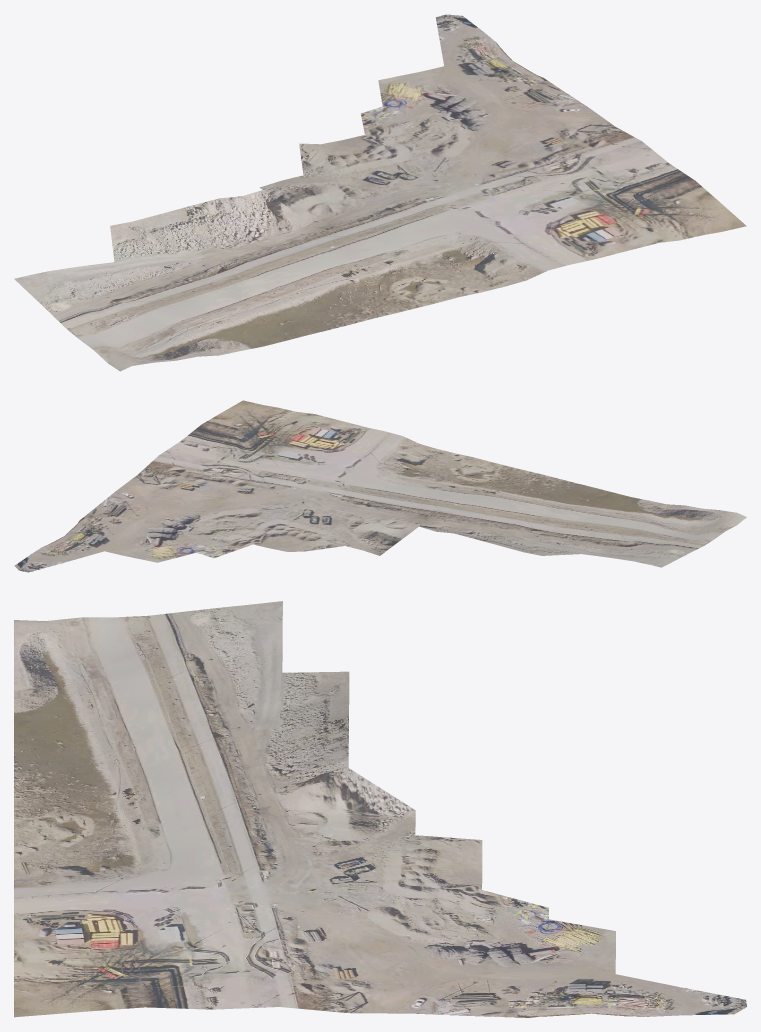
Rendered from CM_Terrain_24487387_6822046.fbx.
The picture shows the model from 3 angles, top to bottom: view 1: azimuth 30°, elevation 25°; view 2: azimuth 150°, elevation 25°; view 3: azimuth 270°, elevation 25°; orthographic projection. The views are drawn at different scales.
Parts seen in each view (by area): view 1: CM_Terrain_24487387_6822046_LOD0; view 2: CM_Terrain_24487387_6822046_LOD0; view 3: CM_Terrain_24487387_6822046_LOD0.
Part boxes in pixels (left/top/right/bottom): CM_Terrain_24487387_6822046_LOD0: left=14, top=14, right=746, bottom=371; CM_Terrain_24487387_6822046_LOD0: left=14, top=400, right=746, bottom=572; CM_Terrain_24487387_6822046_LOD0: left=14, top=601, right=746, bottom=1017.
Size of what is drawn, in the model's own units: 205 by 9.46 by 164.
